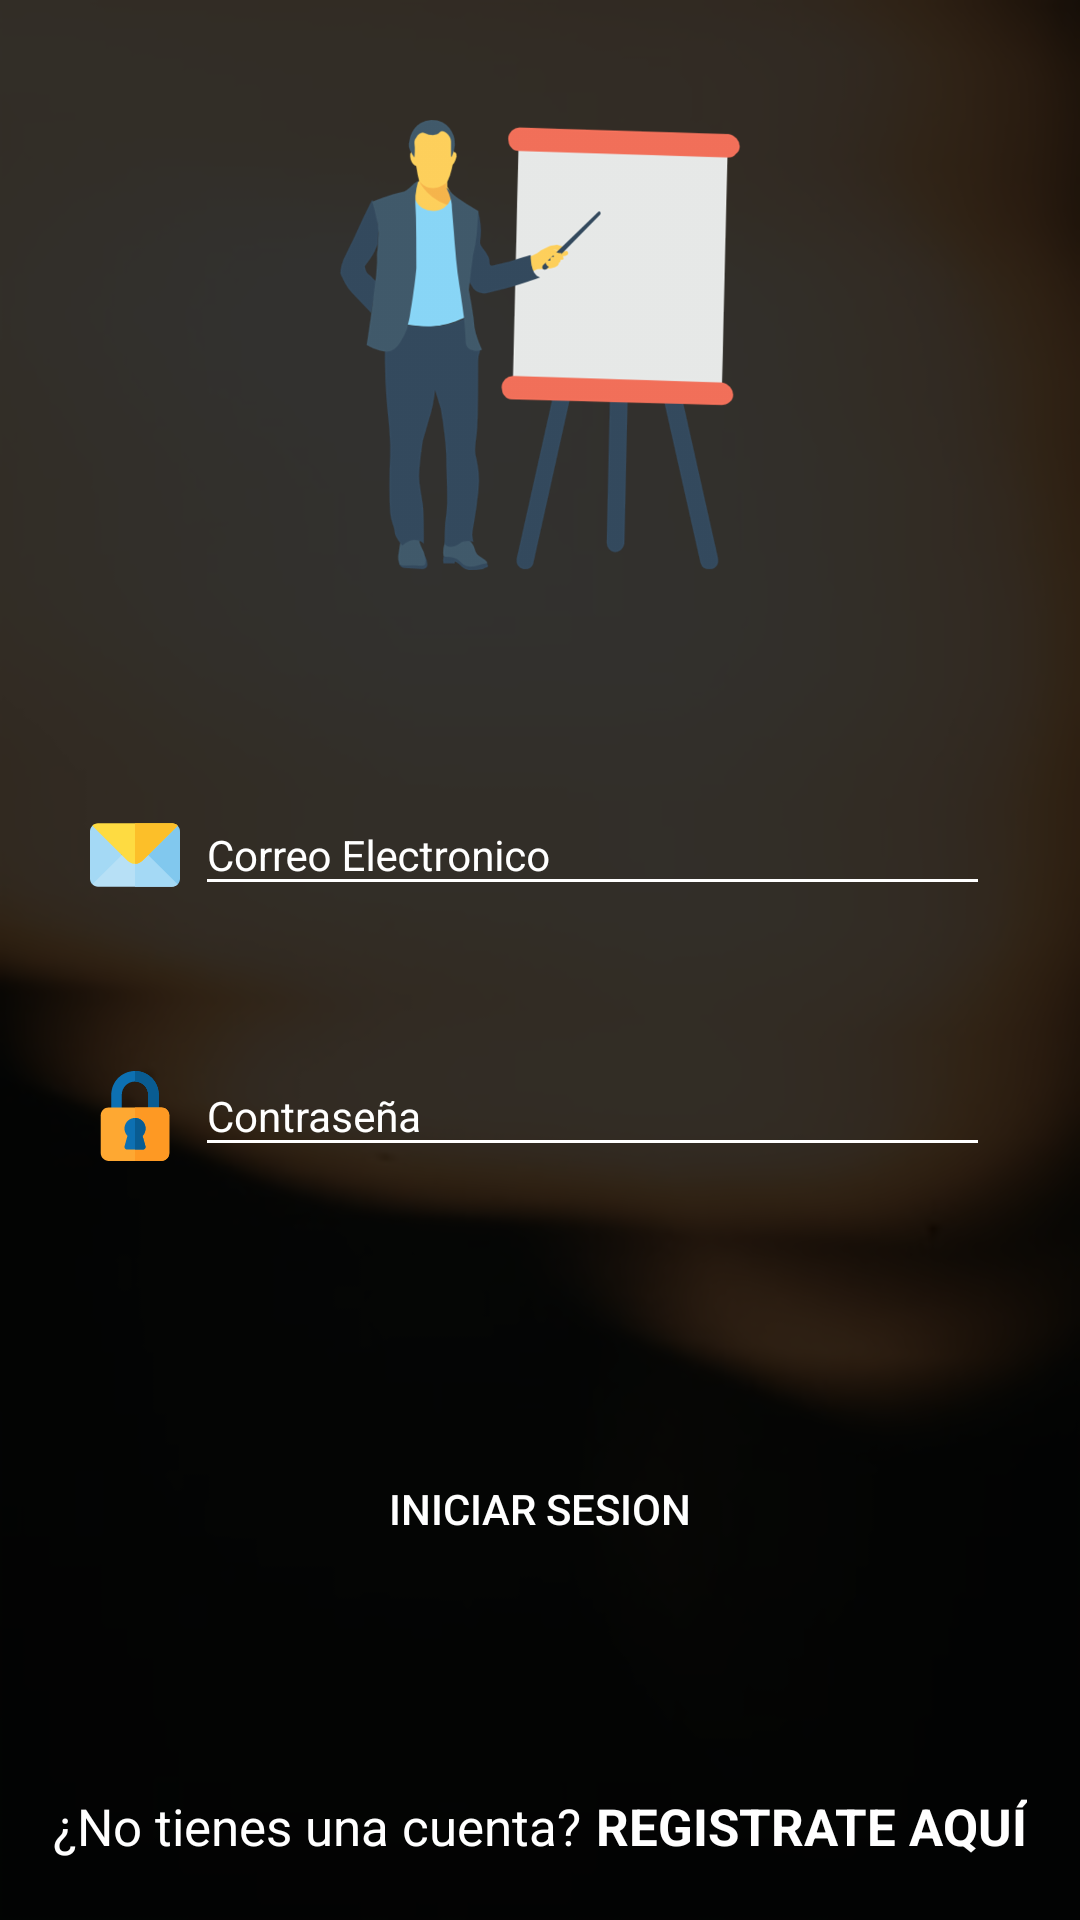

Screen size 1080×1920. Icon name, then its center in pixels as (x,y):
bloquear: (135,1116)
